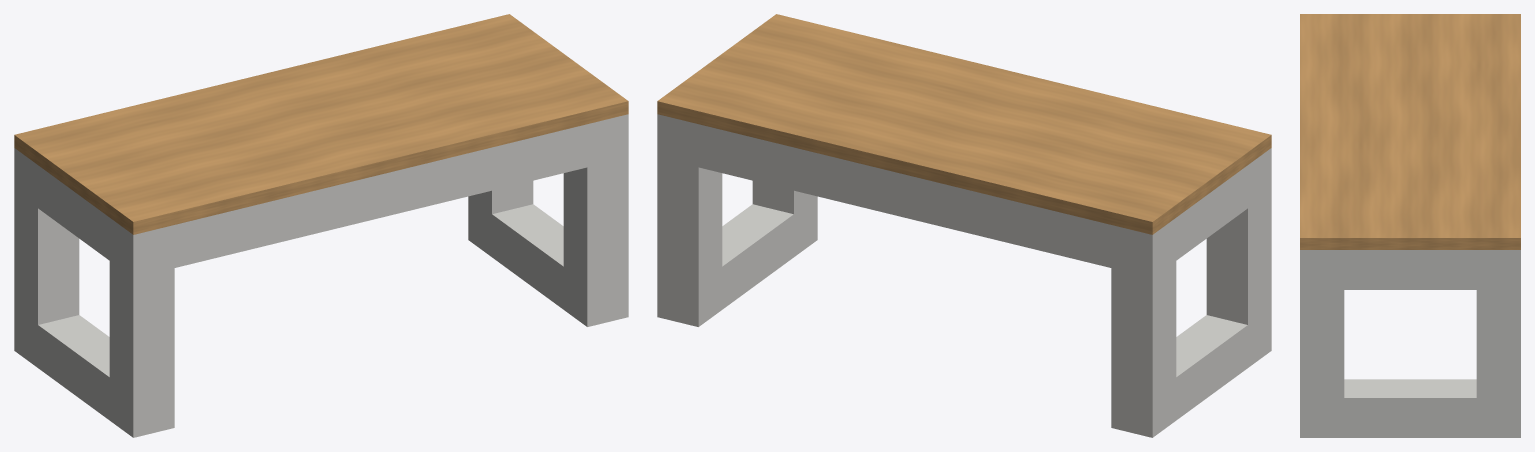
Rendered from mesa-living-nord-miel-blanco-10cm.glb.
3 views of the same model, side by side, from view 1: azimuth 30°, elevation 25°; view 2: azimuth 150°, elevation 25°; view 3: azimuth 270°, elevation 25° (orthographic). The views are drawn at different scales.
Visible parts, largest first — view 1: Tapa de madera maciza 120 x 50 cm, Pata recta de hierro 10 x 10 cm (×4), Larguero longitudinal superior recto, Travesaño inferior recto (×2), Travesaño superior recto; view 2: Tapa de madera maciza 120 x 50 cm, Pata recta de hierro 10 x 10 cm (×4), Larguero longitudinal superior recto, Travesaño inferior recto (×2), Travesaño superior recto; view 3: Tapa de madera maciza 120 x 50 cm, Pata recta de hierro 10 x 10 cm (×2), Travesaño inferior recto, Travesaño superior recto.
Boxes of the visible parts, <box> form: Tapa de madera maciza 120 x 50 cm: <box>14,14,628,234</box>; Pata recta de hierro 10 x 10 cm (×4): <box>14,114,628,437</box>; Larguero longitudinal superior recto: <box>174,124,587,267</box>; Travesaño inferior recto (×2): <box>26,204,575,428</box>; Travesaño superior recto: <box>26,158,121,269</box>; Tapa de madera maciza 120 x 50 cm: <box>657,14,1271,234</box>; Pata recta de hierro 10 x 10 cm (×4): <box>657,114,1271,437</box>; Larguero longitudinal superior recto: <box>698,124,1111,267</box>; Travesaño inferior recto (×2): <box>710,204,1247,428</box>; Travesaño superior recto: <box>1164,165,1247,268</box>; Tapa de madera maciza 120 x 50 cm: <box>1300,14,1520,249</box>; Pata recta de hierro 10 x 10 cm (×2): <box>1300,250,1520,437</box>; Travesaño inferior recto: <box>1323,379,1497,437</box>; Travesaño superior recto: <box>1322,250,1498,289</box>.
Bounding box in the file's own units: 1.2 × 0.5 × 0.5.
Materials: 2 (1 with a texture image).
